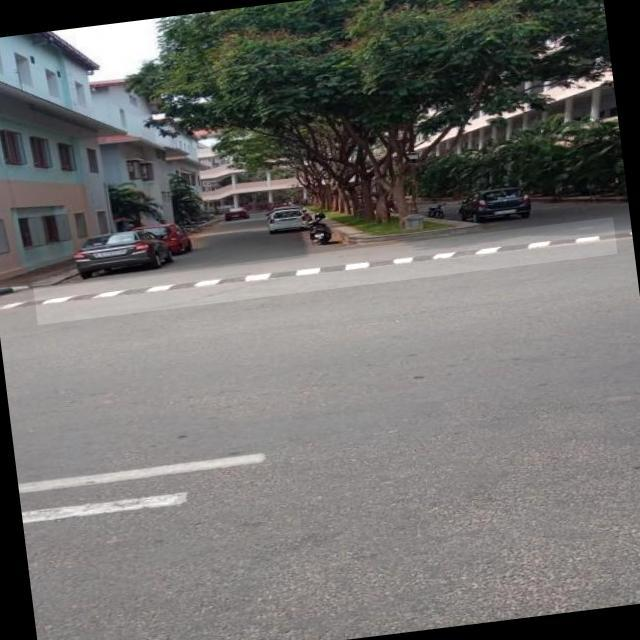speedbreaker: (33, 216, 618, 324)
